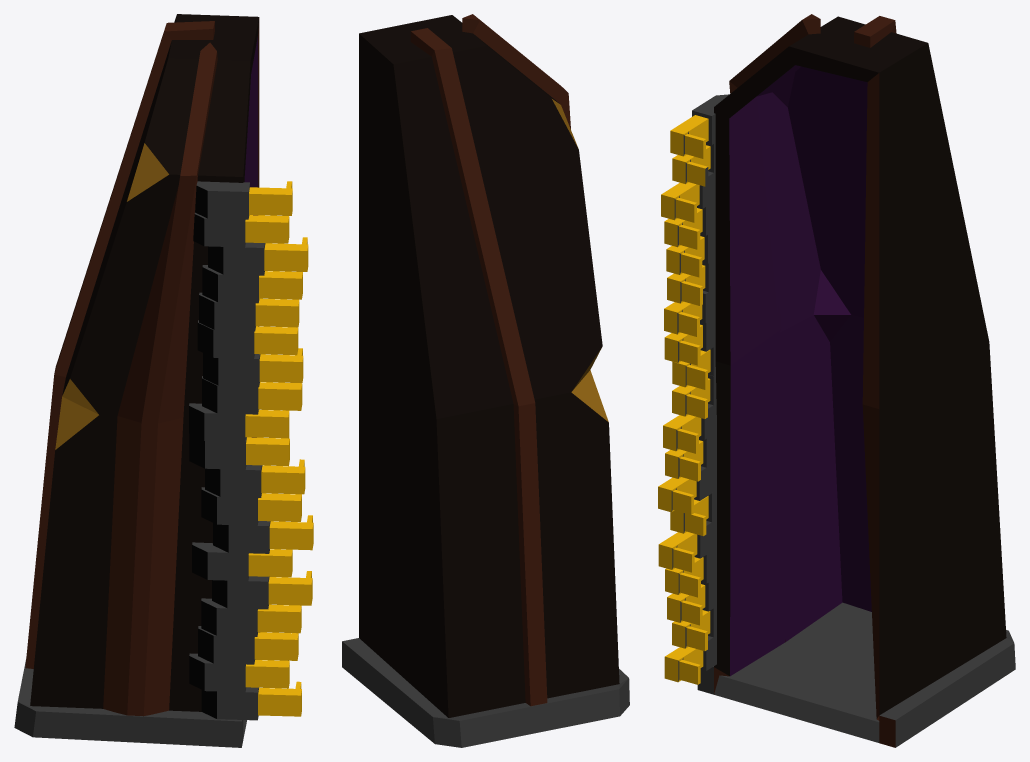
The model's file is Sarg_3_R_Tür.obj.
3 views of the same model, side by side, from view 1: azimuth 30°, elevation 25°; view 2: azimuth 150°, elevation 25°; view 3: azimuth 270°, elevation 25° (orthographic). The views are drawn at different scales.
Parts seen in each view (by area): view 1: Sarg_3_R; view 2: Sarg_3_R; view 3: Sarg_3_R.
Part boxes in pixels (x1,y1,x2,y2): Sarg_3_R: (14, 14, 313, 747); Sarg_3_R: (342, 14, 629, 747); Sarg_3_R: (658, 14, 1015, 747).
Size of the model in its own units: 1.11 by 2.63 by 1.25.
